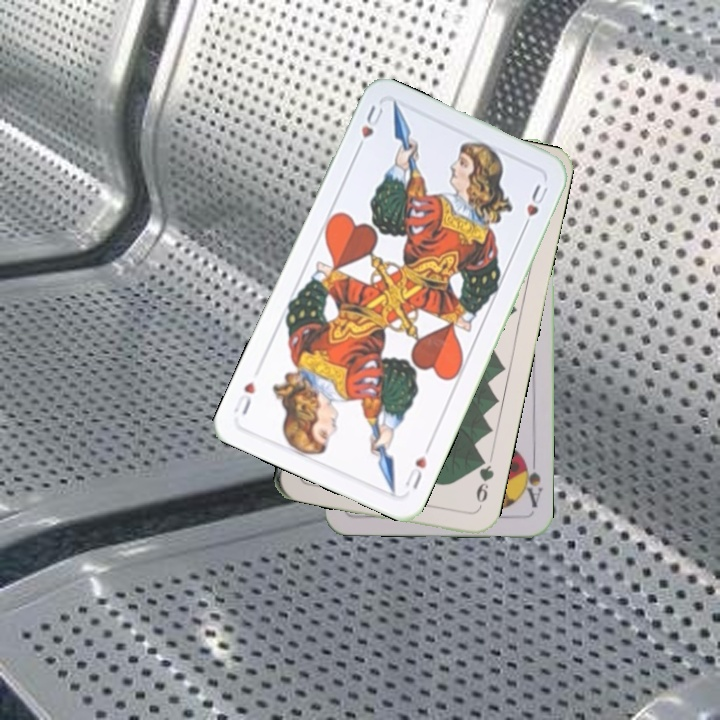G9: (472, 453, 497, 513)
HU: (352, 100, 386, 156), (399, 451, 429, 492)
SA: (518, 453, 545, 510)
